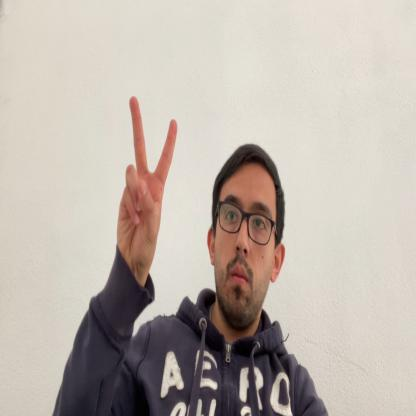V: (116, 96, 178, 278)
